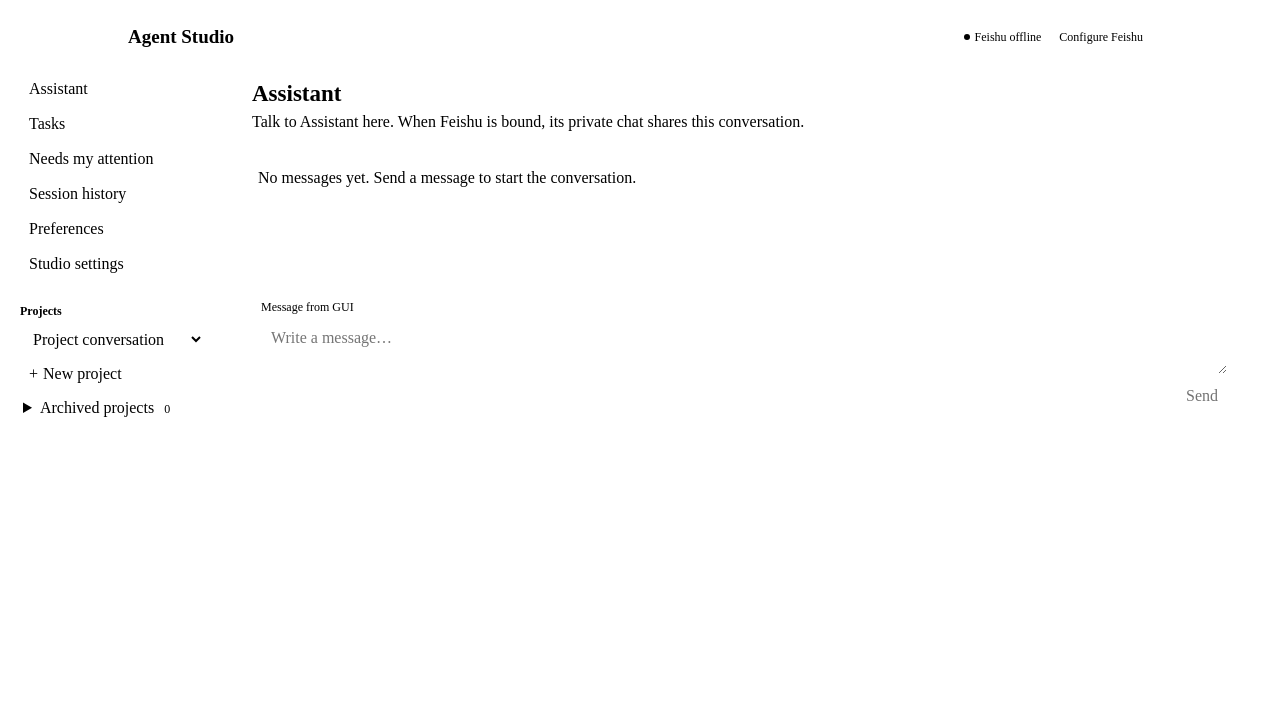
Test case: renders task owners and executors and merges each selected historical task poll into page two
Later steps or results of the test are not shown.
Click the button "Tasks" at (112, 124), box [20,109,204,139]
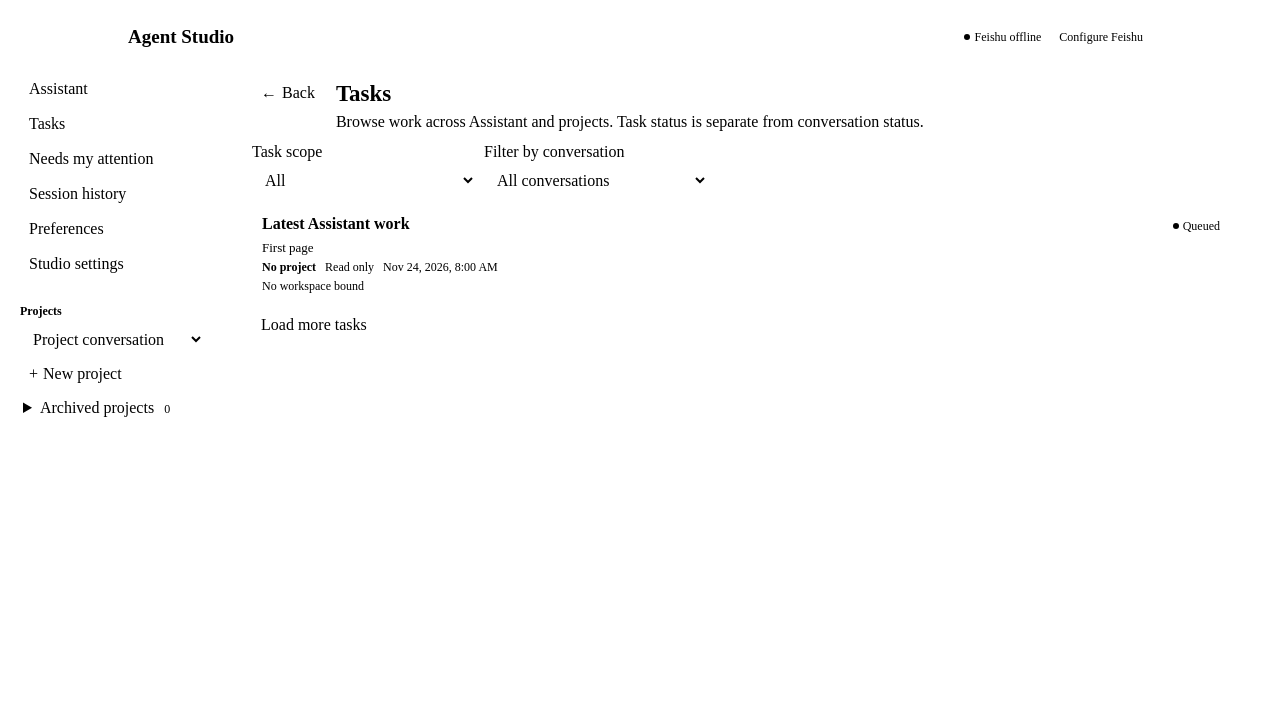
Click the button with class "as-task-row" at (336, 224), box [252,207,1236,302]
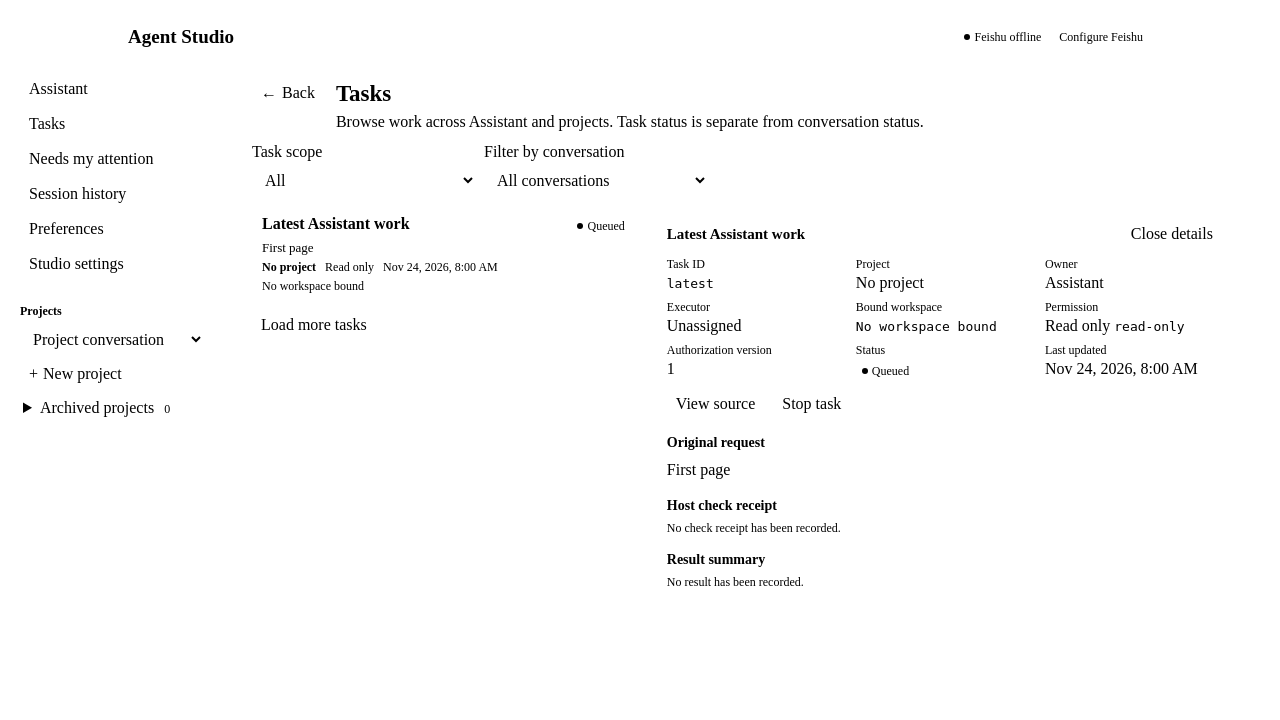
Check: the button "Assistant" is shown, box [20,74,204,104]
Check: the text "Unassigned" is shown, box [667,317,742,334]
Click the button "Close details" at (1172, 234), box [1122,219,1222,249]
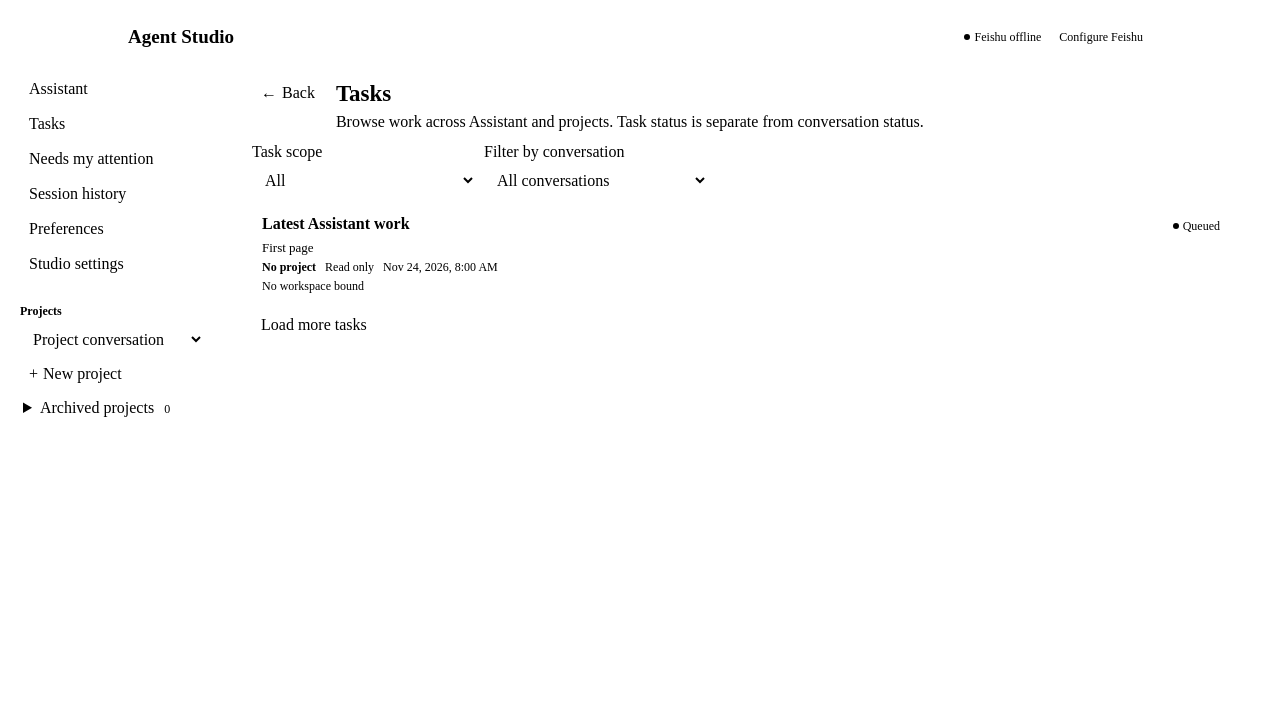
Click the button "Load more tasks" at (314, 324), box [252,310,376,340]
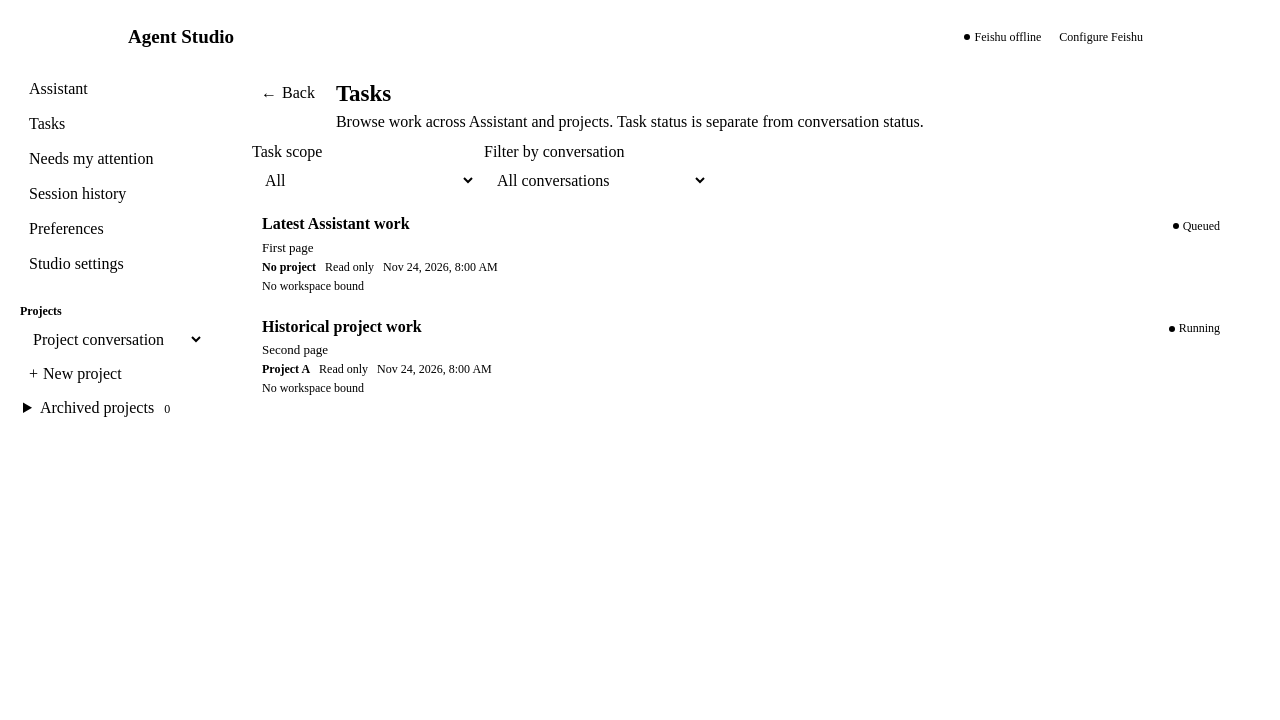
Click the button with class "as-task-row" that starts with "Historical project work" at (342, 326), box [252,310,1236,404]
Wait 4000 ms
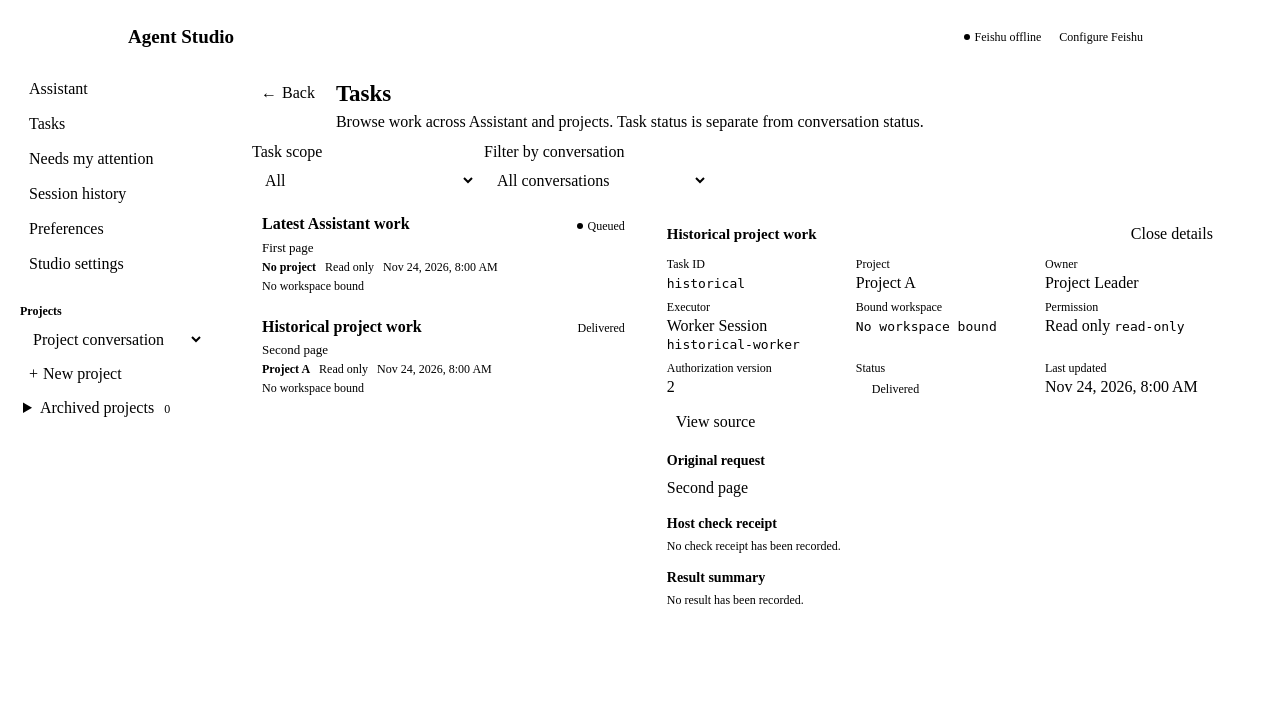
Check: the text "Project Leader" is shown, box [1045,274,1139,291]
Check: the element with class "as-pill" reads "Delivered", box [578,321,625,335]
Click the button "Close details" at (1172, 234), box [1122,219,1222,249]
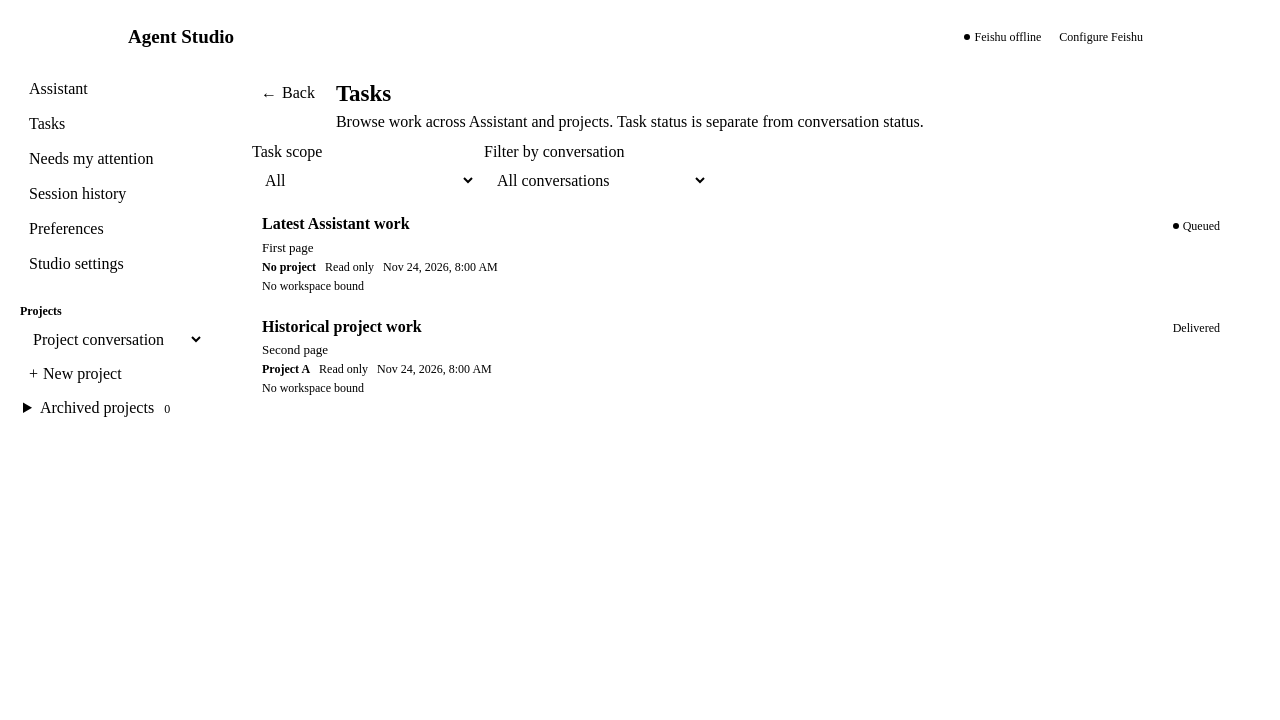
Check: the element with class "as-pill" reads "Delivered", box [1173,321,1220,335]
